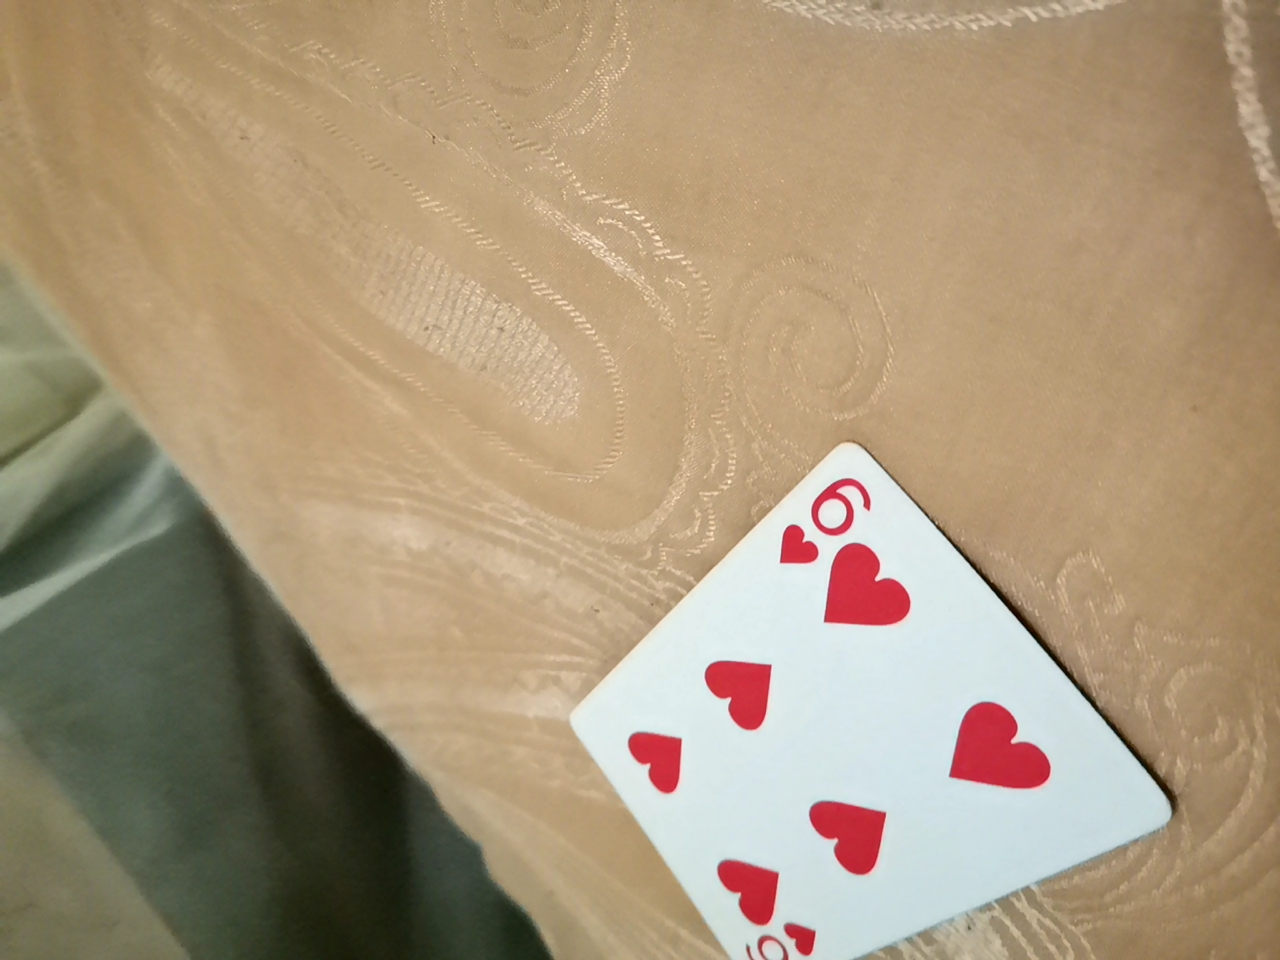hx 6: (553, 448, 1182, 957)
